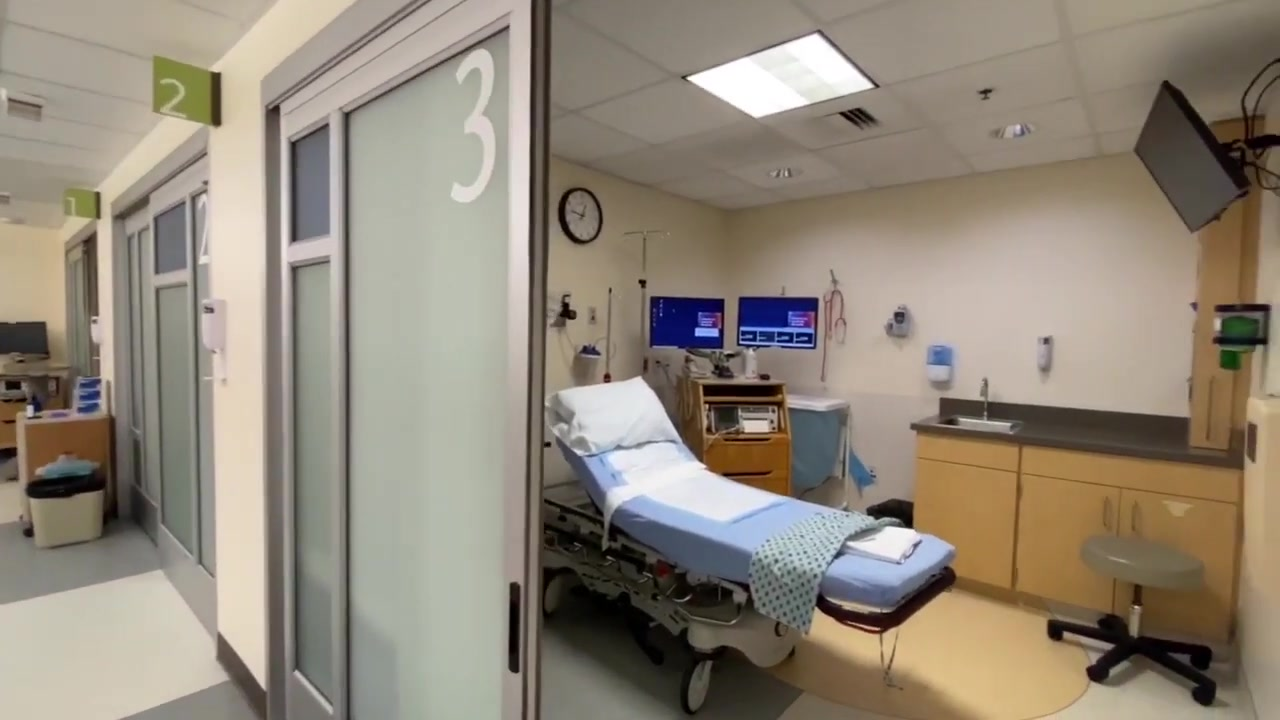TV: (1133, 79, 1249, 236)
cabinet: (910, 415, 1241, 660)
chair: (1051, 536, 1218, 707)
computer: (735, 296, 819, 350), (649, 295, 726, 350), (1, 320, 50, 355)
countertop: (910, 414, 1241, 461)
dispenser: (201, 298, 229, 383), (924, 344, 955, 382), (1034, 336, 1054, 372), (90, 315, 101, 360)
drawer: (683, 372, 794, 494), (16, 410, 113, 527)
exam_table: (544, 375, 958, 715)
faucet: (979, 376, 991, 420)
handle: (1129, 497, 1142, 534), (1100, 493, 1113, 528)
iv_pole: (622, 229, 670, 382), (603, 286, 613, 383)
medical_waste_container: (1245, 389, 1278, 606)
sink: (933, 415, 1024, 435)
waste_bin: (785, 392, 851, 495), (24, 473, 108, 549)
